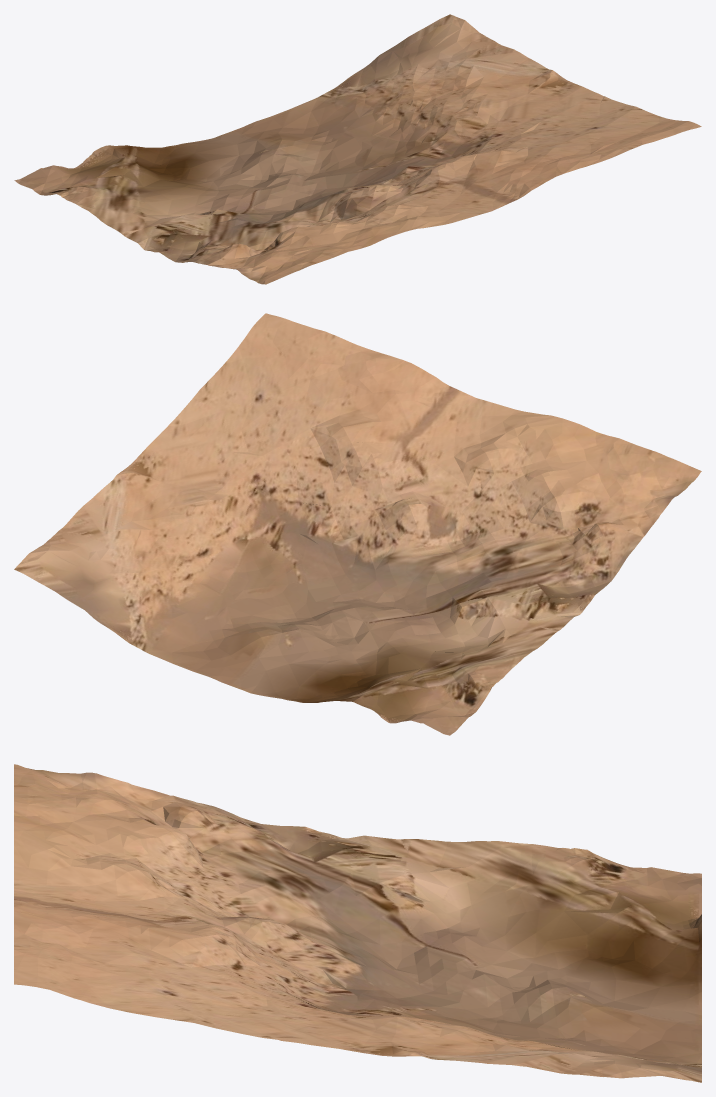
3 renders of one model, top to bottom at view 1: azimuth 30°, elevation 25°; view 2: azimuth 150°, elevation 25°; view 3: azimuth 270°, elevation 25°, orthographic. The views are drawn at different scales.
Bounding box in the file's own units: 2.09 × 0.6318 × 2.09.
Materials: 2 (2 with a texture image).
